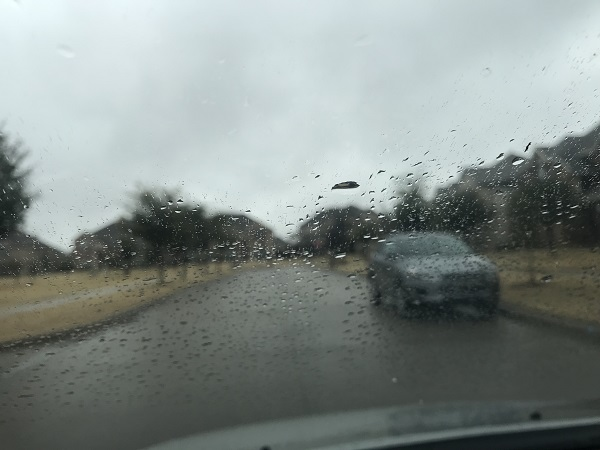car: (365, 231, 502, 315)
